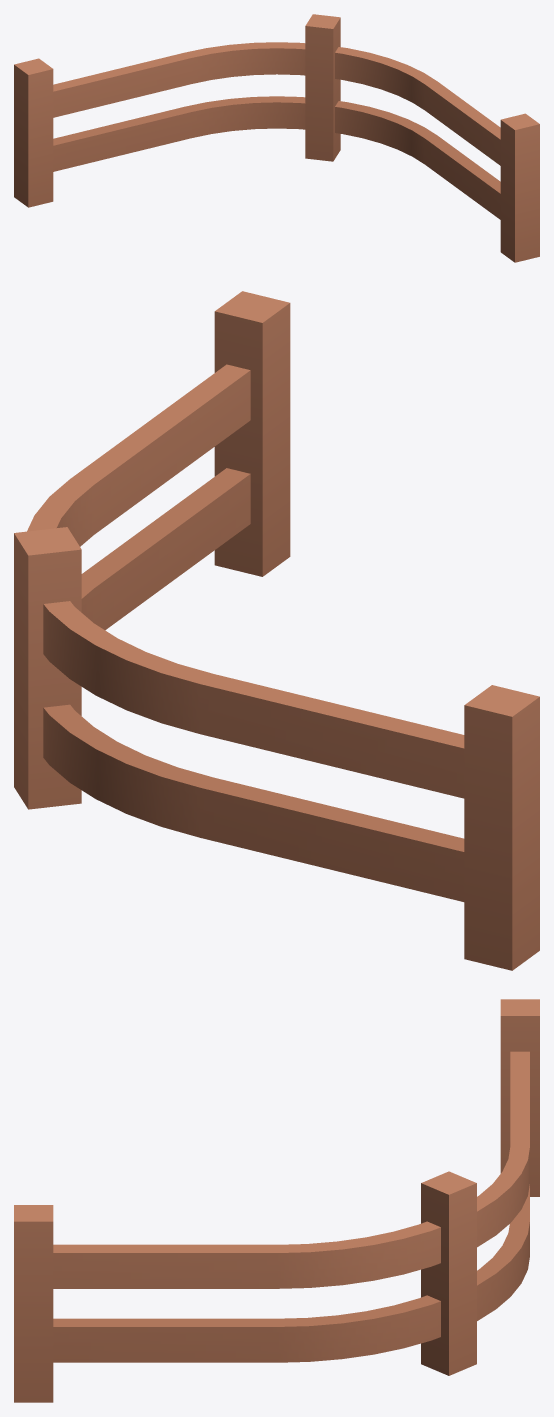
The model's file is fence_curved.glb.
3 views of the same model, one above another, from view 1: azimuth 30°, elevation 25°; view 2: azimuth 150°, elevation 25°; view 3: azimuth 270°, elevation 25° (orthographic). The views are drawn at different scales.
Parts seen in each view (by area): view 1: fence-curved; view 2: fence-curved; view 3: fence-curved.
Part boxes in pixels (left/top/right/bottom): fence-curved: left=14, top=14, right=539, bottom=262; fence-curved: left=14, top=291, right=539, bottom=970; fence-curved: left=14, top=999, right=539, bottom=1402.
Size of the model in its own units: 1 by 0.38 by 1.
Materials: 1 (1 with a texture image).
